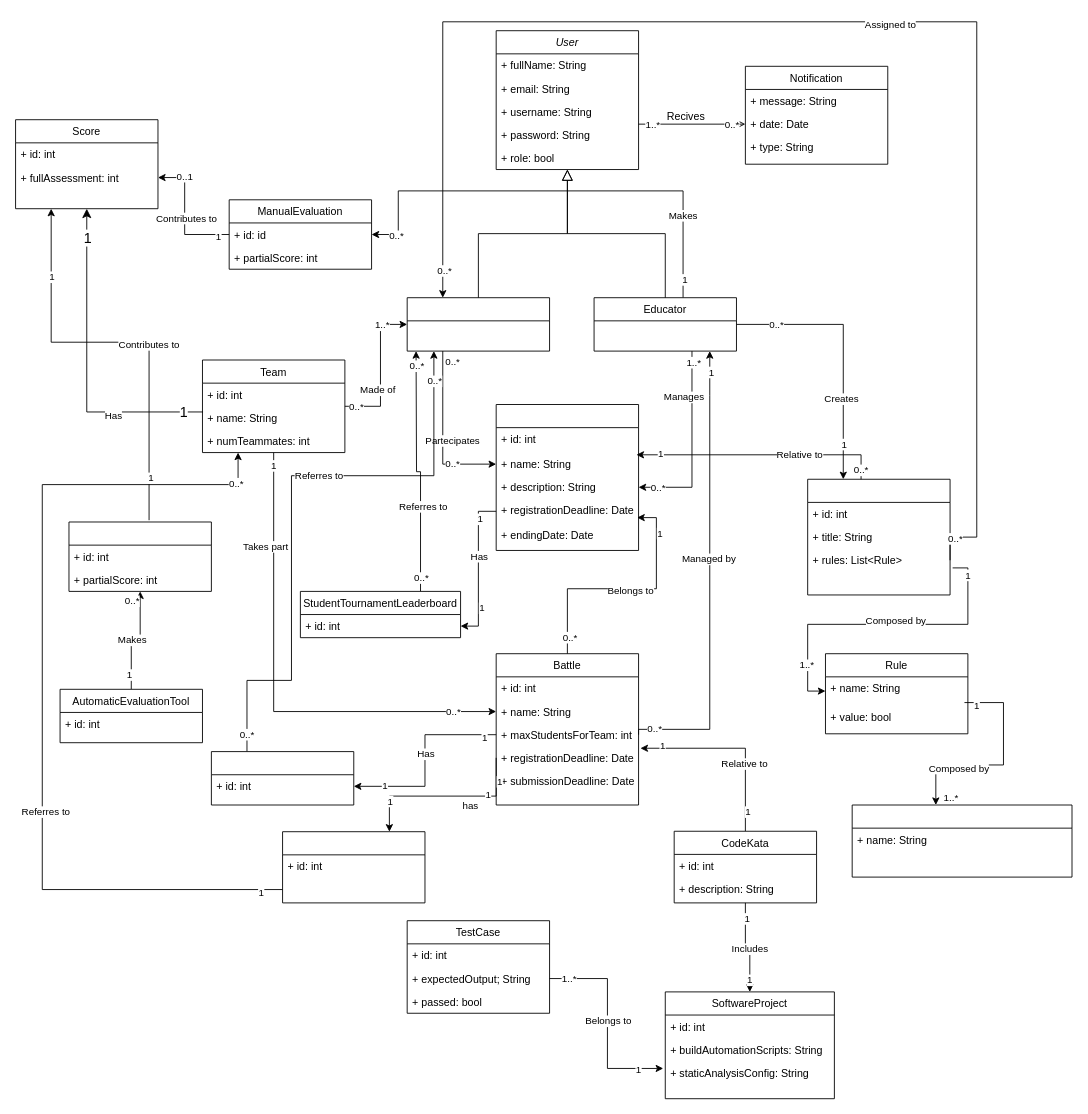
The diagram is 1088 pixels wide and 1114 high, and some of its shapes have lost their labels. The shapes that lost their labels are listed below. From the top down, each one's box as (x1, y1, x2, y2) in pixels, then its label:
(406, 297, 550, 351): Student
(495, 404, 639, 550): Tournament
(68, 521, 211, 591): AutomaticEvaluation
(807, 478, 950, 595): Badge
(210, 751, 354, 805): StudentBattleLeaderboard
(851, 804, 1072, 877): Variable
(282, 831, 425, 903): TeamBattleLeaderboard
